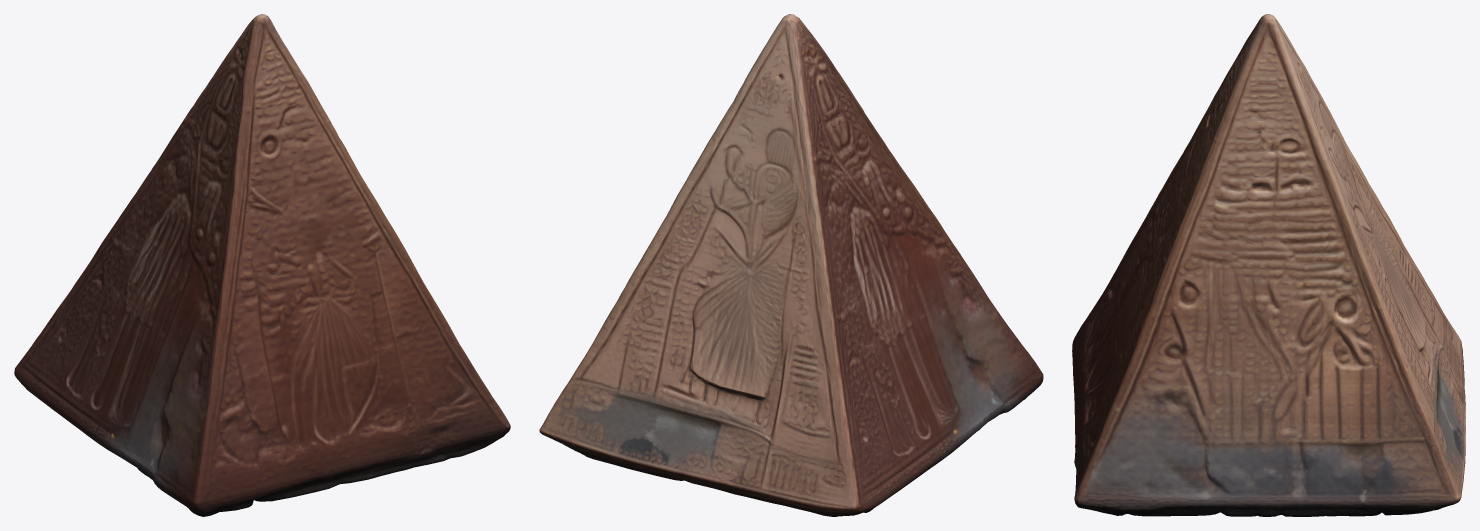
The model's file is Pyramid Artifact.glb.
3 views of the same model, side by side, from view 1: azimuth 30°, elevation 25°; view 2: azimuth 150°, elevation 25°; view 3: azimuth 270°, elevation 25° (orthographic). The views are drawn at different scales.
Visible parts, largest first — view 1: world; view 2: world; view 3: world.
Part boxes in pixels (x1=…): world: x1=14, y1=14, x2=510, y2=516; world: x1=539, y1=14, x2=1043, y2=516; world: x1=1072, y1=14, x2=1465, y2=516.
Size of the model in its own units: 0.8344 by 1 by 0.8389.
1 material, 1 textured.
